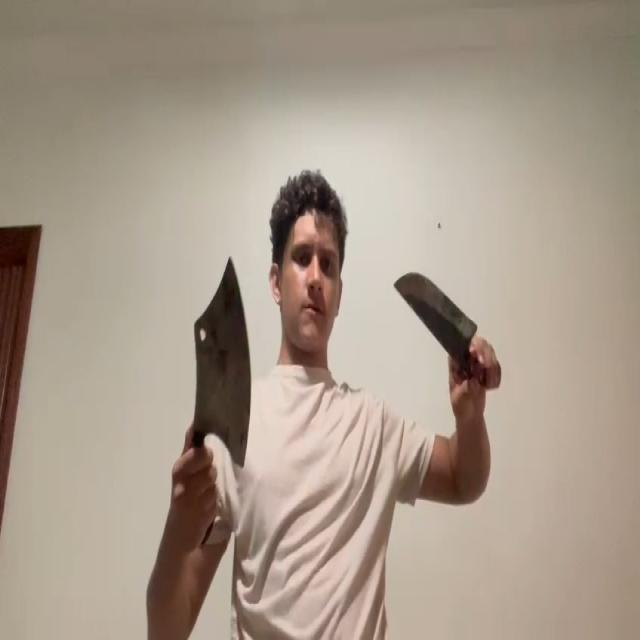knife: (193, 252, 254, 465), (392, 273, 478, 342)
